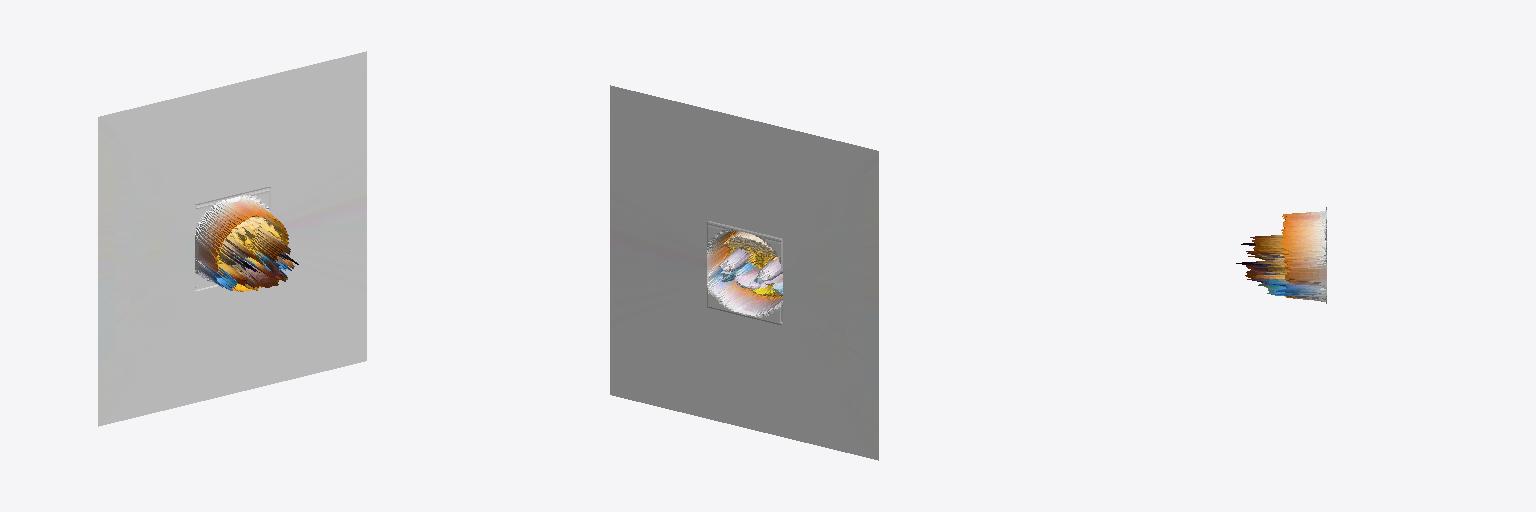
The picture shows the model from 3 angles: view 1: azimuth 30°, elevation 25°; view 2: azimuth 150°, elevation 25°; view 3: azimuth 270°, elevation 25°; orthographic projection.
Parts seen in each view (by area): view 1: smile; view 2: smile; view 3: smile.
Part boxes in pixels (x1,y1,x2,y2): smile: (98,51,366,426); smile: (610,85,878,460); smile: (1236,207,1326,303).
Bounding box in the file's own units: 156 × 172 × 47.24.
1 materials, 1 textured.